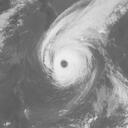cyclone: (40, 20, 99, 86)
